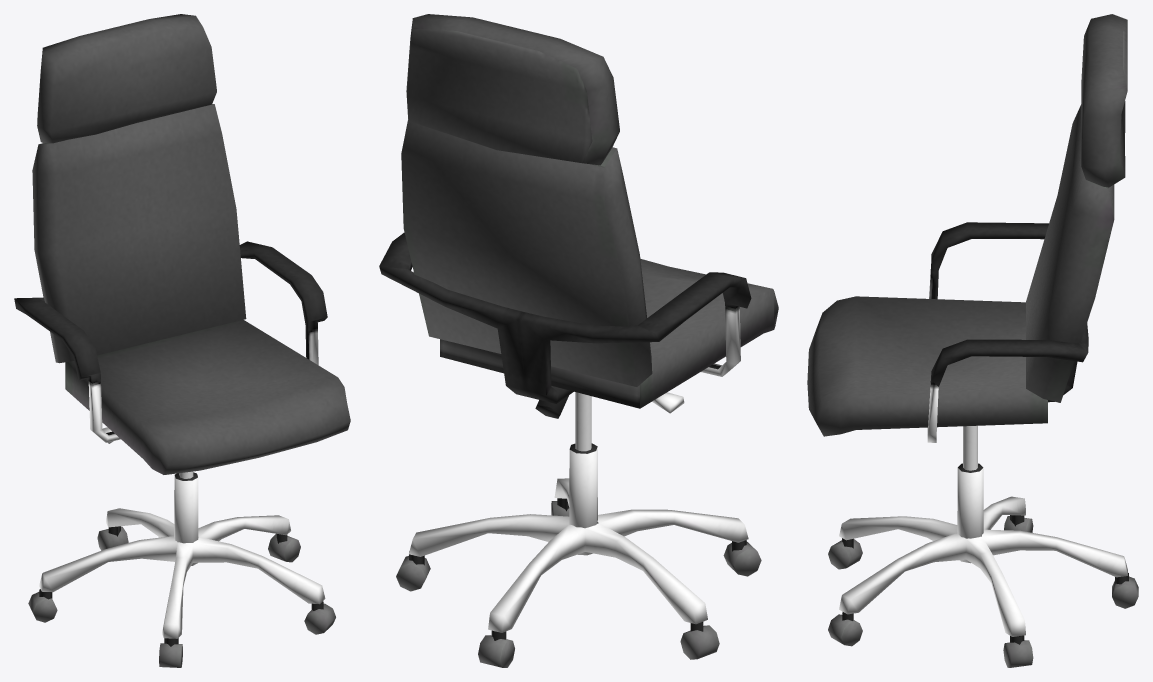
File: office_chair.obj
The picture shows the model from 3 angles, left to right: view 1: azimuth 30°, elevation 25°; view 2: azimuth 150°, elevation 25°; view 3: azimuth 270°, elevation 25°; orthographic projection. The views are drawn at different scales.
Size of the model in its own units: 1.55 by 2.91 by 1.57.
